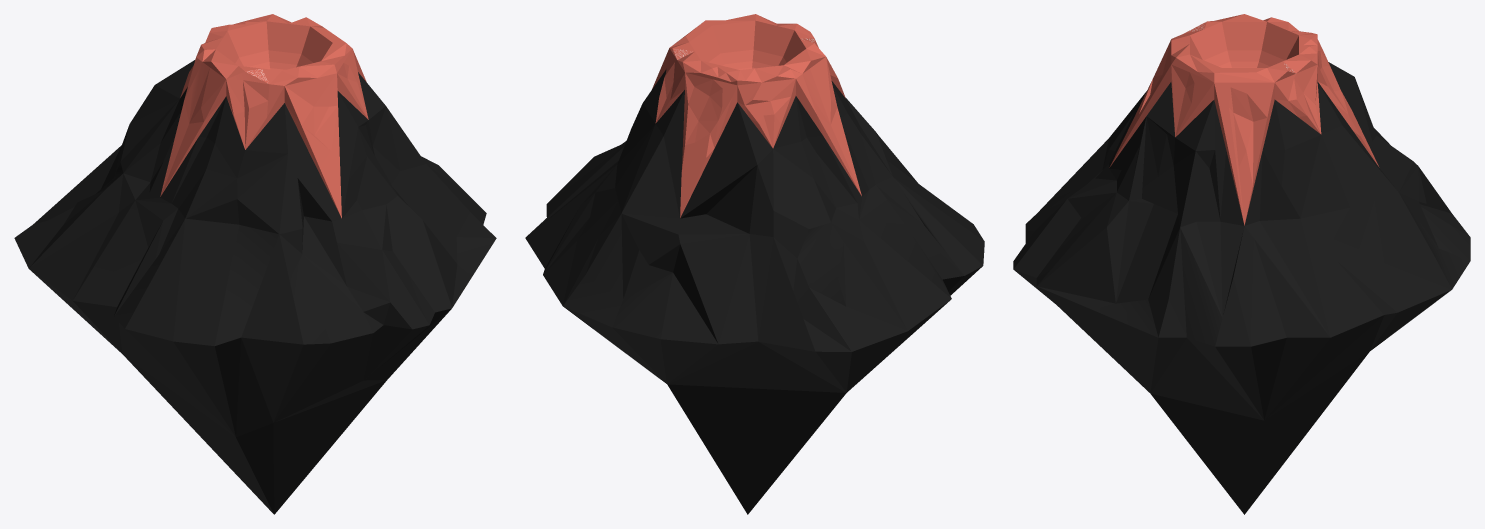
The model's file is Volcano.dae.
3 renders of one model, left to right at view 1: azimuth 30°, elevation 25°; view 2: azimuth 150°, elevation 25°; view 3: azimuth 270°, elevation 25°, orthographic.
Visible parts, largest first — view 1: SketchUp (×3); view 2: SketchUp (×3); view 3: SketchUp (×3).
Boxes of the visible parts, left/top/right/bottom form: SketchUp (×3): left=14, top=14, right=496, bottom=514; SketchUp (×3): left=525, top=14, right=984, bottom=514; SketchUp (×3): left=1013, top=14, right=1470, bottom=514.
Size of the model in its own units: 184 by 182 by 206.
